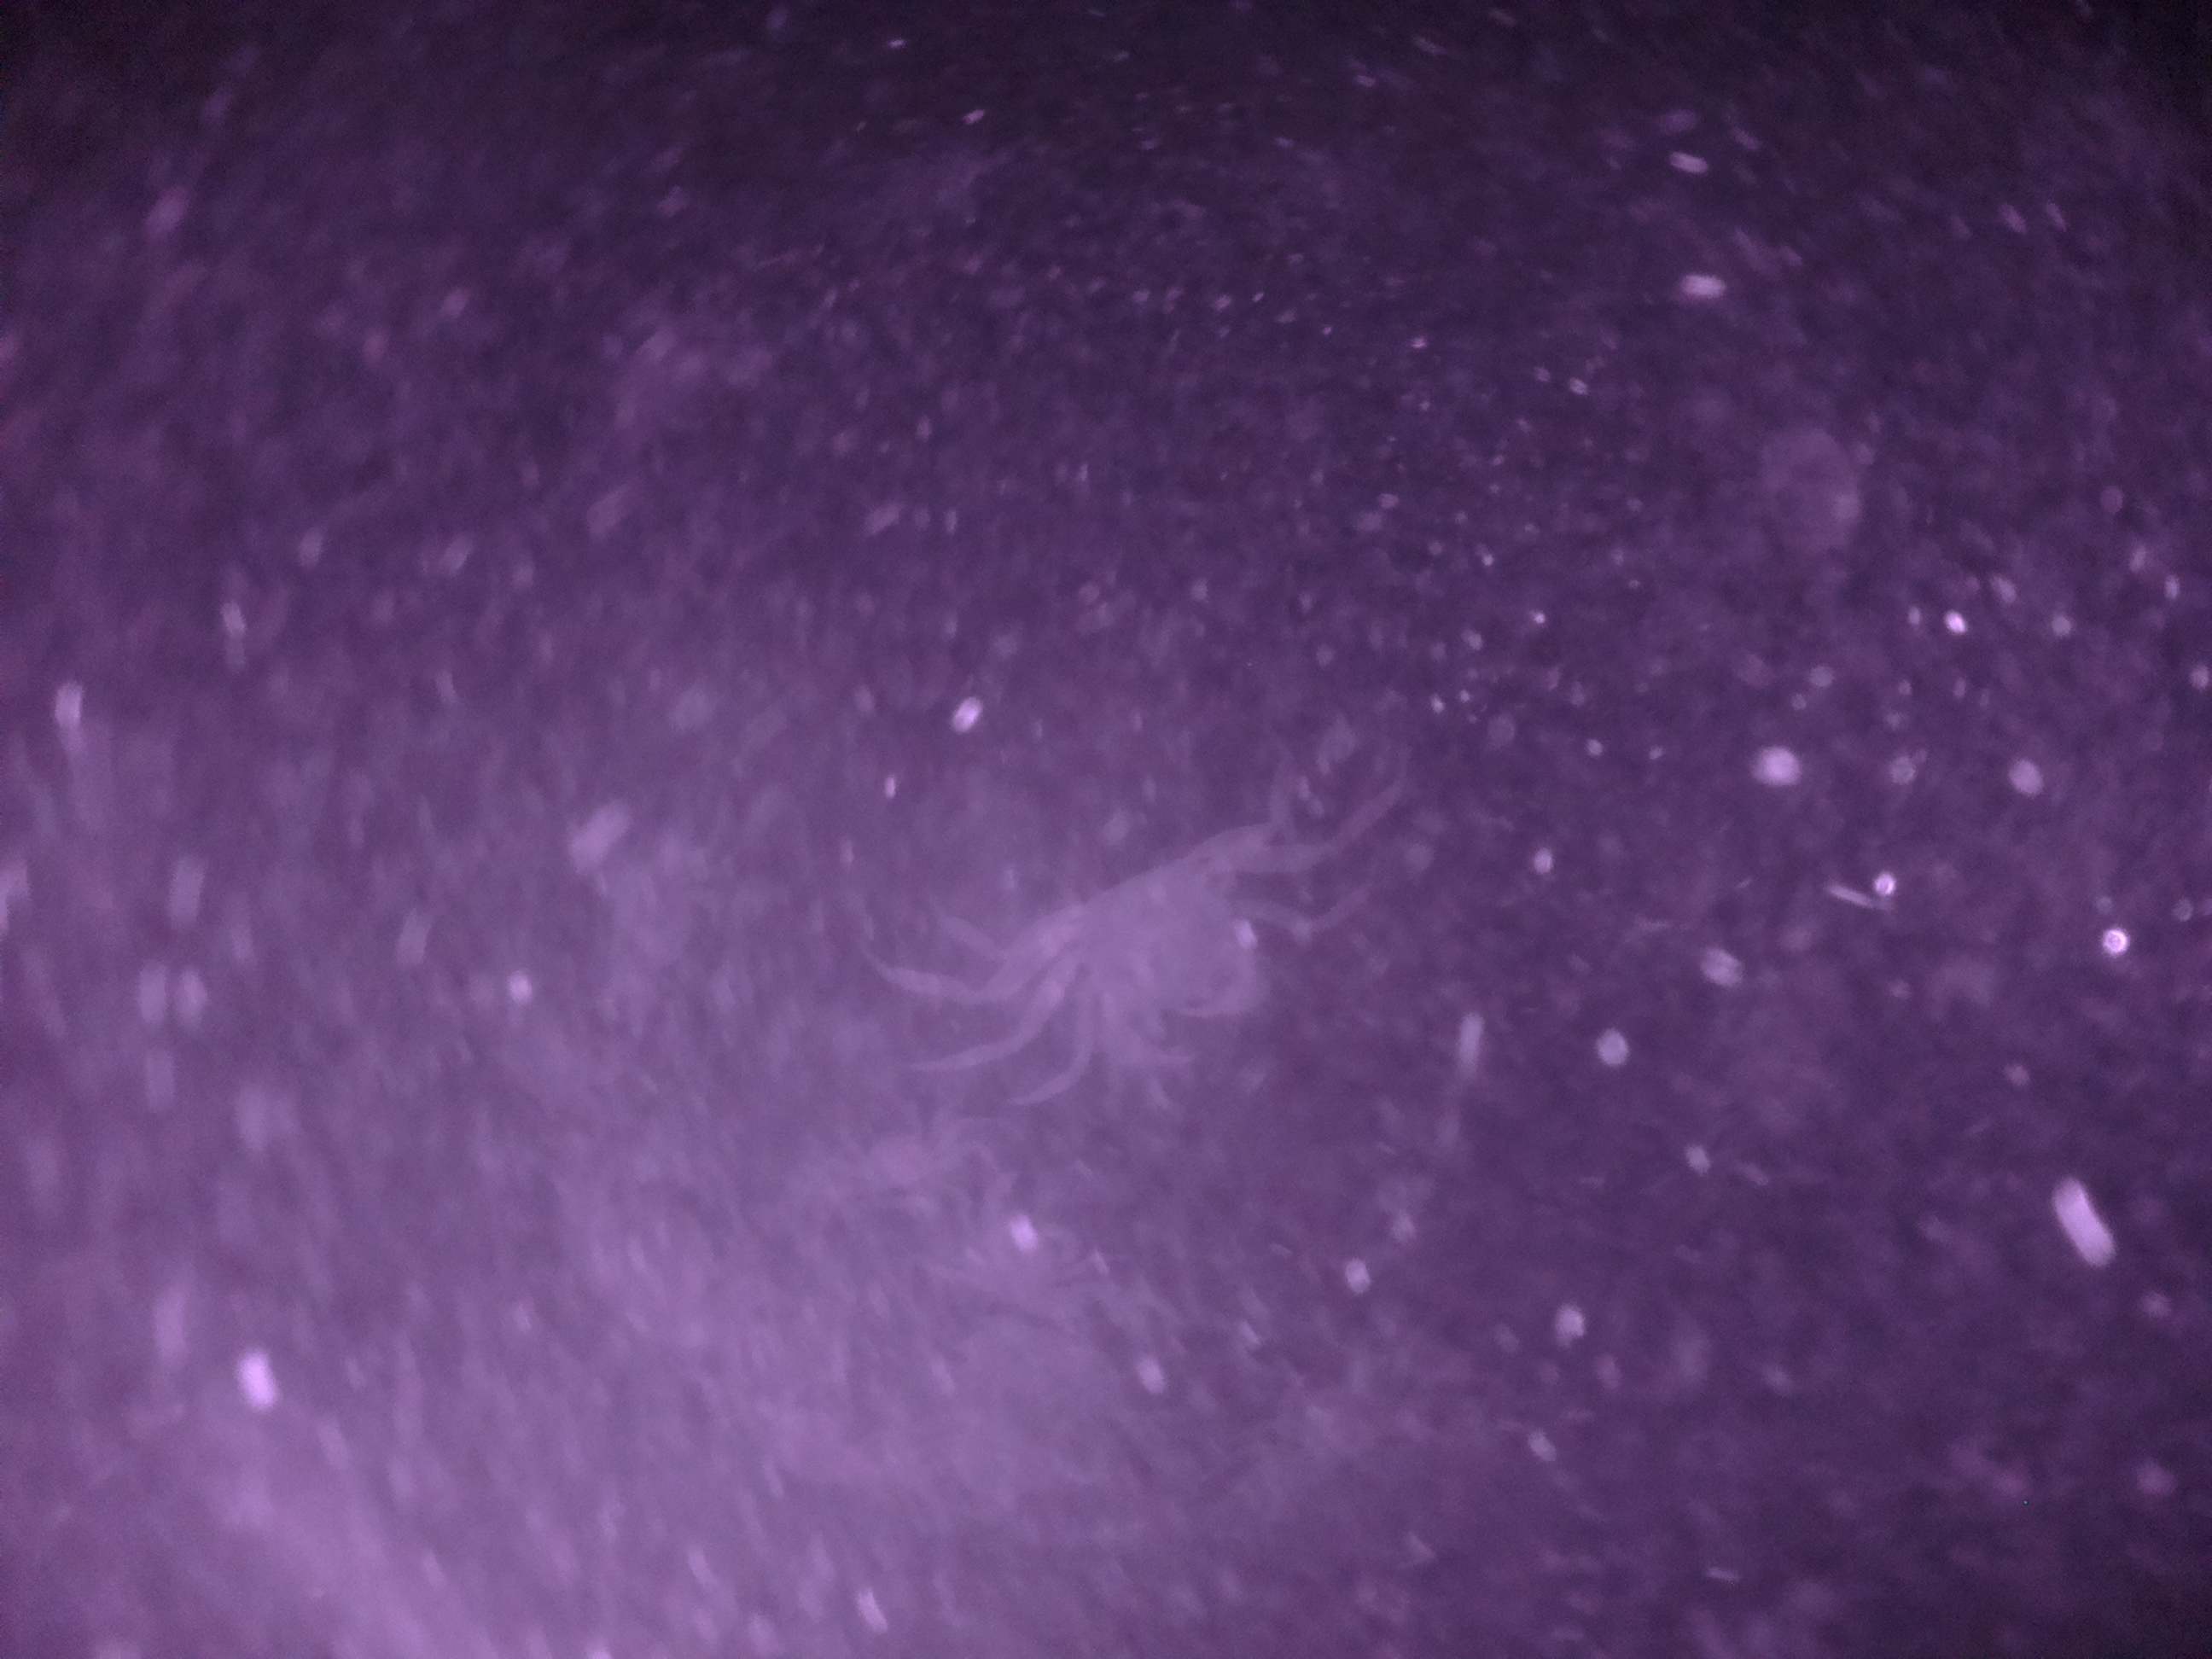Crab: (1024, 821, 1315, 1101)
